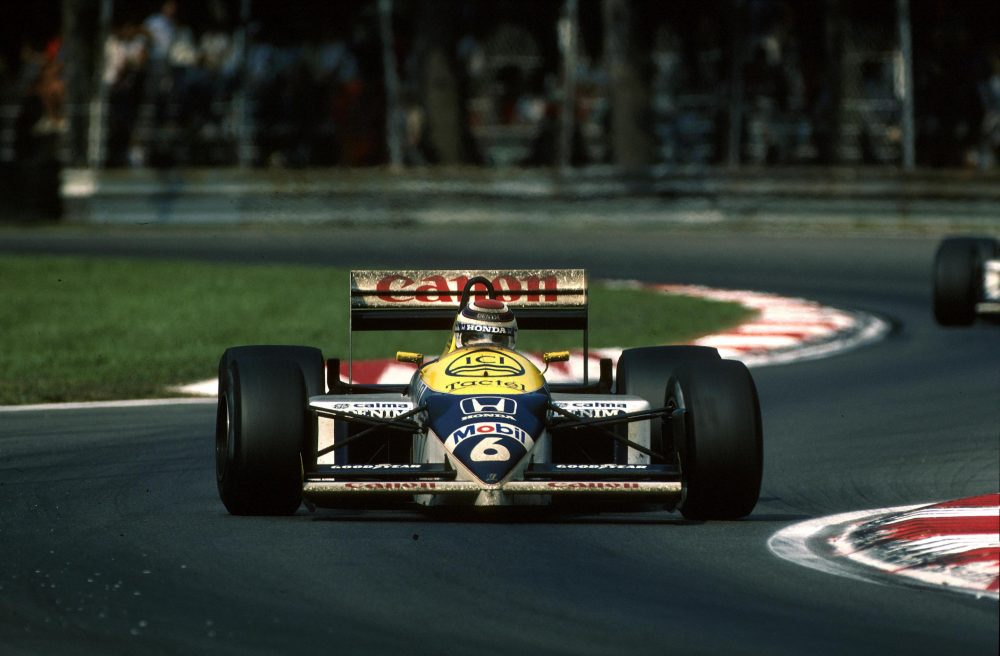f1_car: (196, 250, 779, 540)
helmet: (446, 289, 525, 359)
